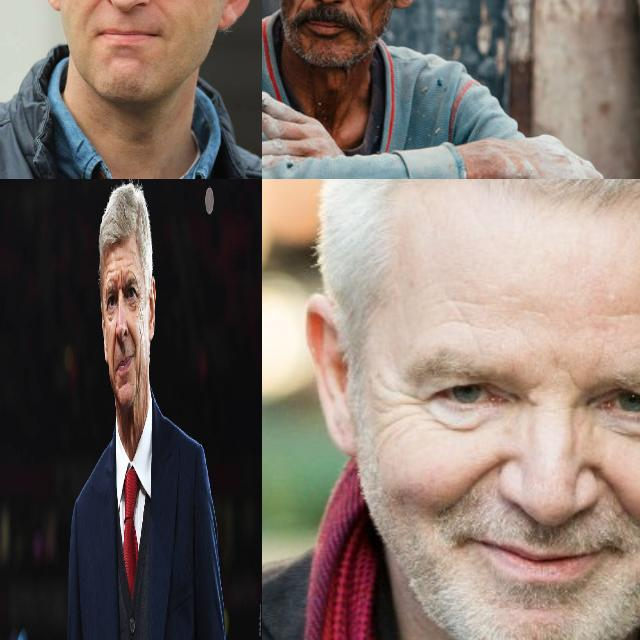chin: (118, 378, 128, 392)
crows_feet: (380, 386, 422, 432), (137, 292, 142, 312)
forehead: (444, 288, 478, 339), (105, 264, 115, 281), (126, 260, 136, 277)
frown_line: (558, 365, 586, 395), (118, 271, 123, 294)
gummy_smile: (456, 457, 504, 508), (591, 466, 639, 514), (344, 0, 360, 16), (128, 320, 136, 348), (87, 0, 104, 13), (294, 0, 312, 12), (112, 331, 117, 365)
masseter: (138, 322, 144, 346)
sad_smile: (112, 365, 116, 385), (134, 353, 137, 374)
